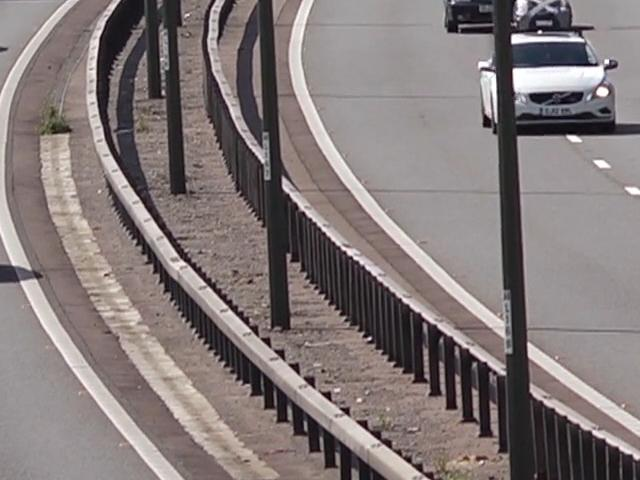car: (485, 0, 618, 145), (439, 0, 541, 30)
